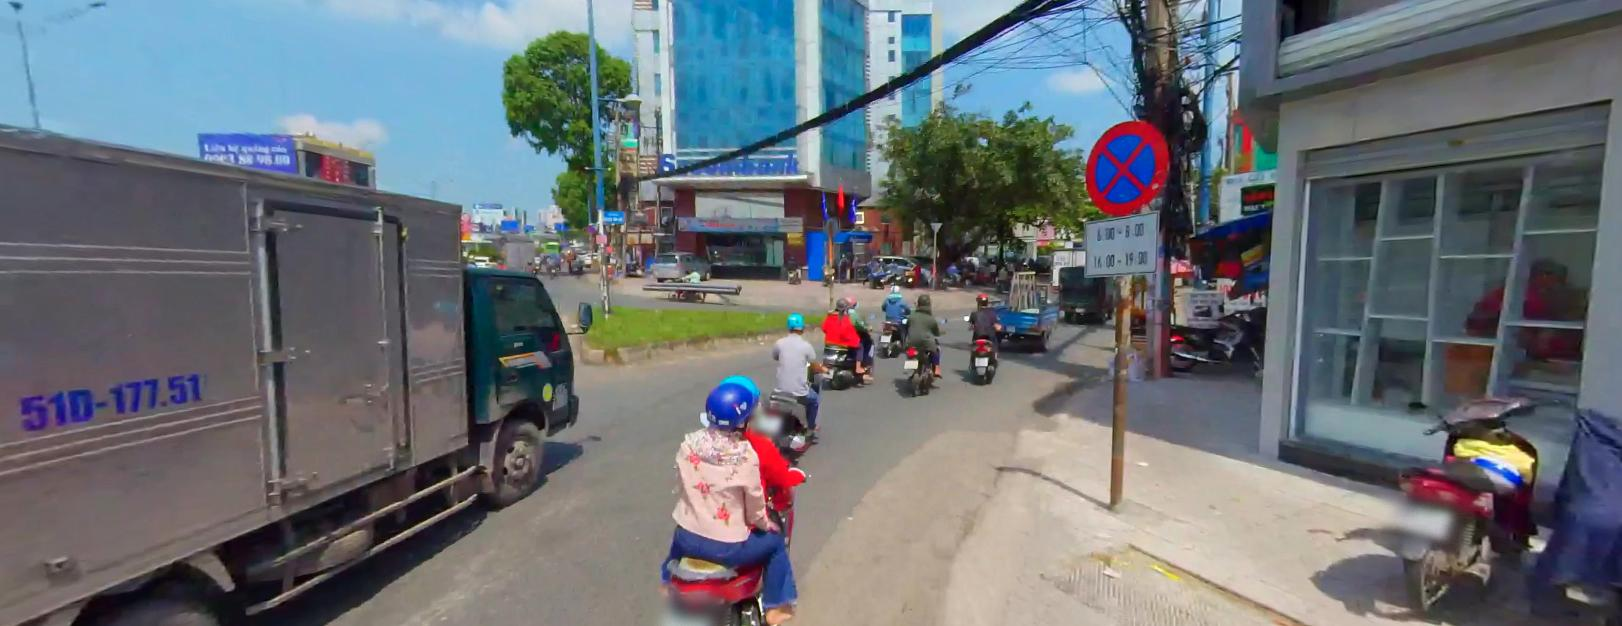Cam dung va do: (1084, 118, 1168, 216), (585, 222, 594, 232)
